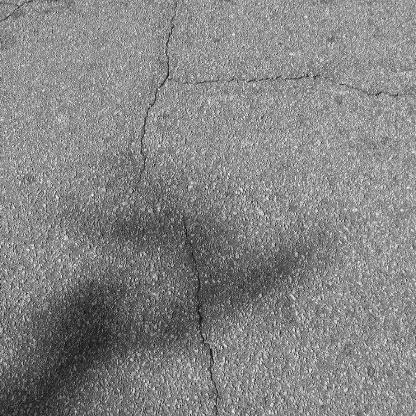Cracks: (137, 0, 416, 180), (179, 213, 225, 416), (0, 0, 98, 40)
